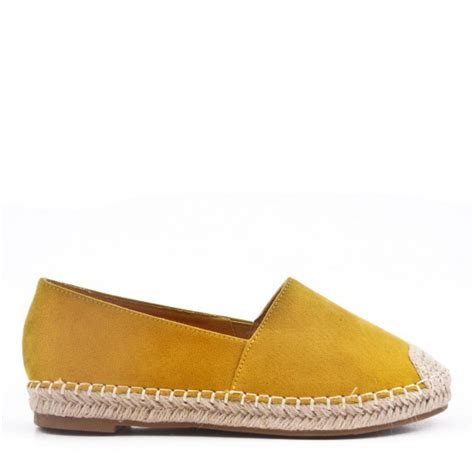gamuza: (22, 276, 424, 399)
